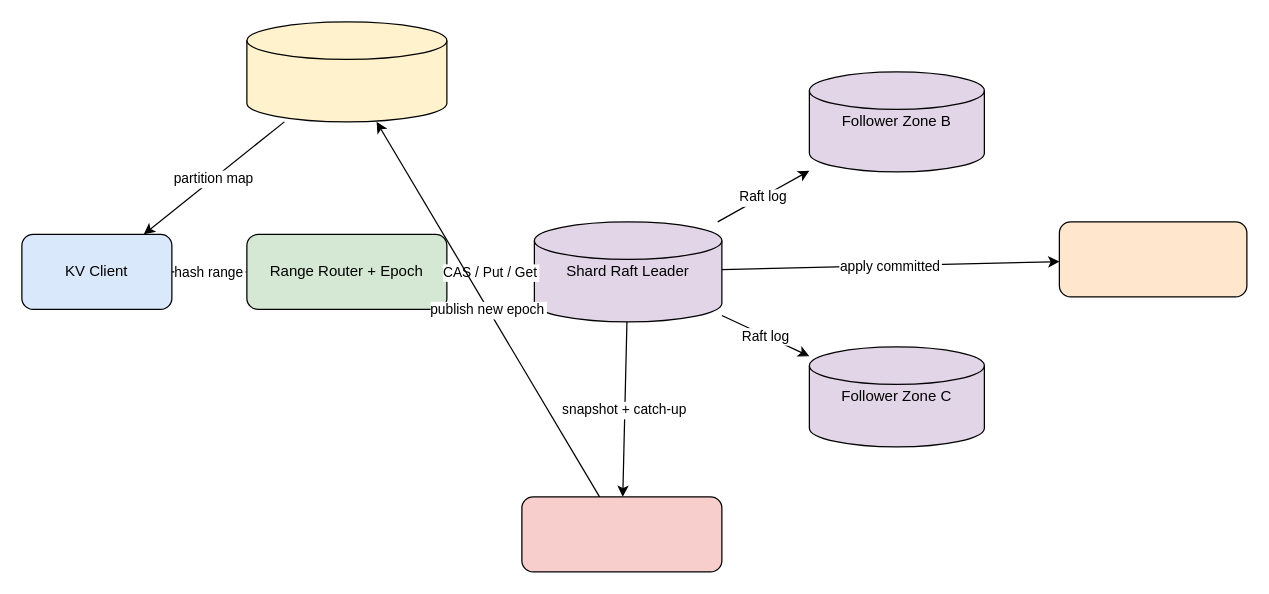
Some shapes in this 1269 by 594 pixel diagram are drawn without their labels. The centre of each missing label's shape, as x and y in pixels:
"Consensus Metadata" goes at (x=346, y=71).
"Local LSM Engine" goes at (x=1152, y=259).
"Migration Learner" goes at (x=621, y=534).
